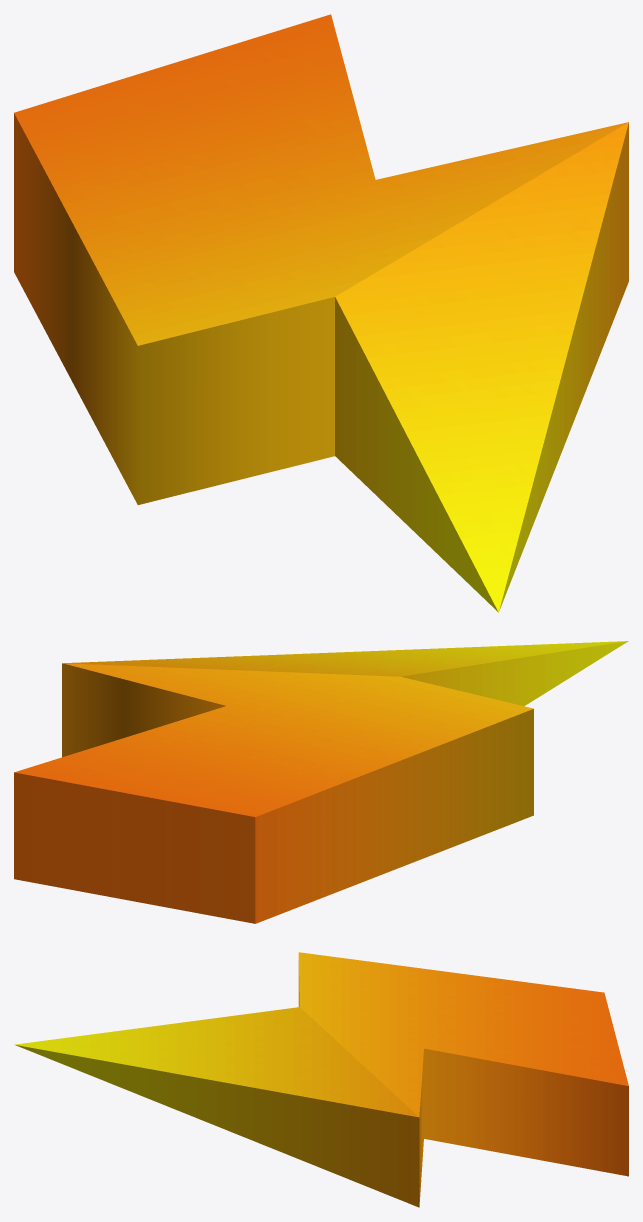
The model's file is lighting.fbx.
The picture shows the model from 3 angles, top to bottom: view 1: azimuth 30°, elevation 25°; view 2: azimuth 150°, elevation 25°; view 3: azimuth 270°, elevation 25°; orthographic projection. The views are drawn at different scales.
Parts seen in each view (by area): view 1: sd; view 2: sd; view 3: sd.
Boxes of the visible parts, <box> form: sd: <box>14,14,628,612</box>; sd: <box>14,641,628,923</box>; sd: <box>14,952,628,1207</box>.
Size of the model in its own units: 7.89 by 2.01 by 12.41.
